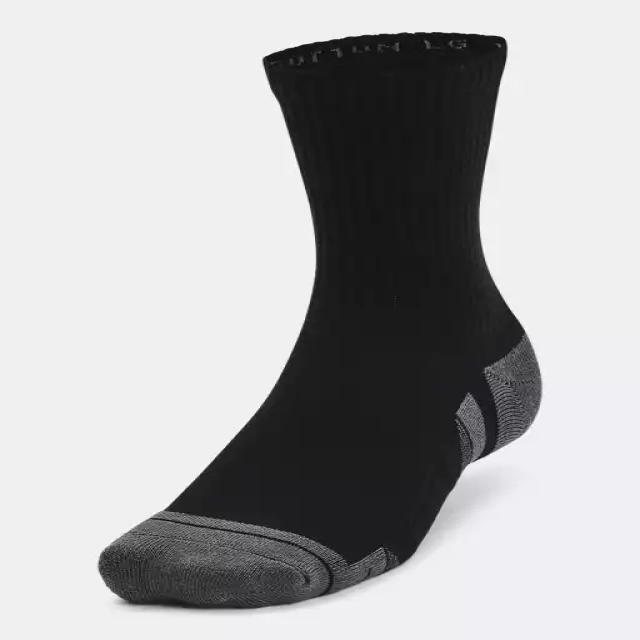sock: (96, 30, 542, 609)
